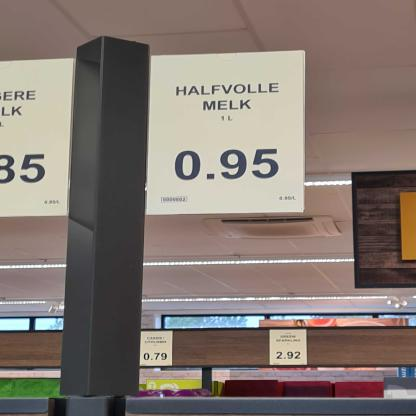prtg: (148, 50, 305, 217), (1, 59, 75, 218)
